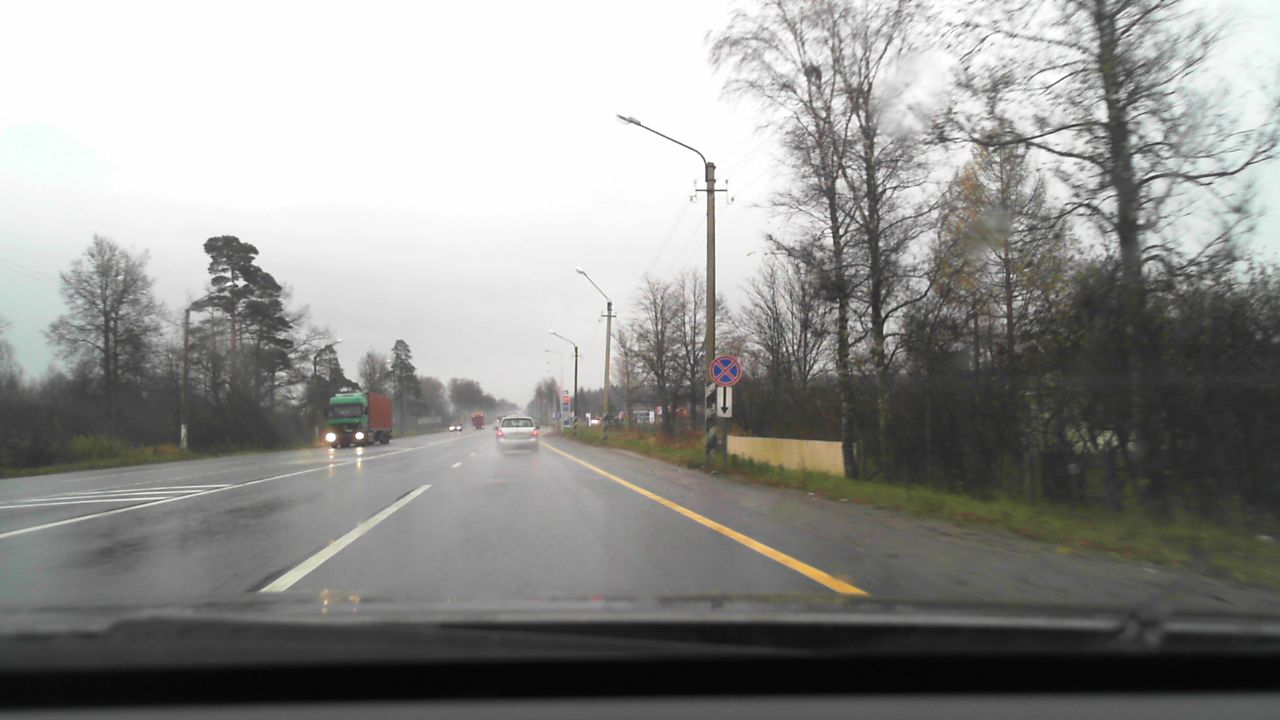No Parking: (708, 354, 741, 387)
